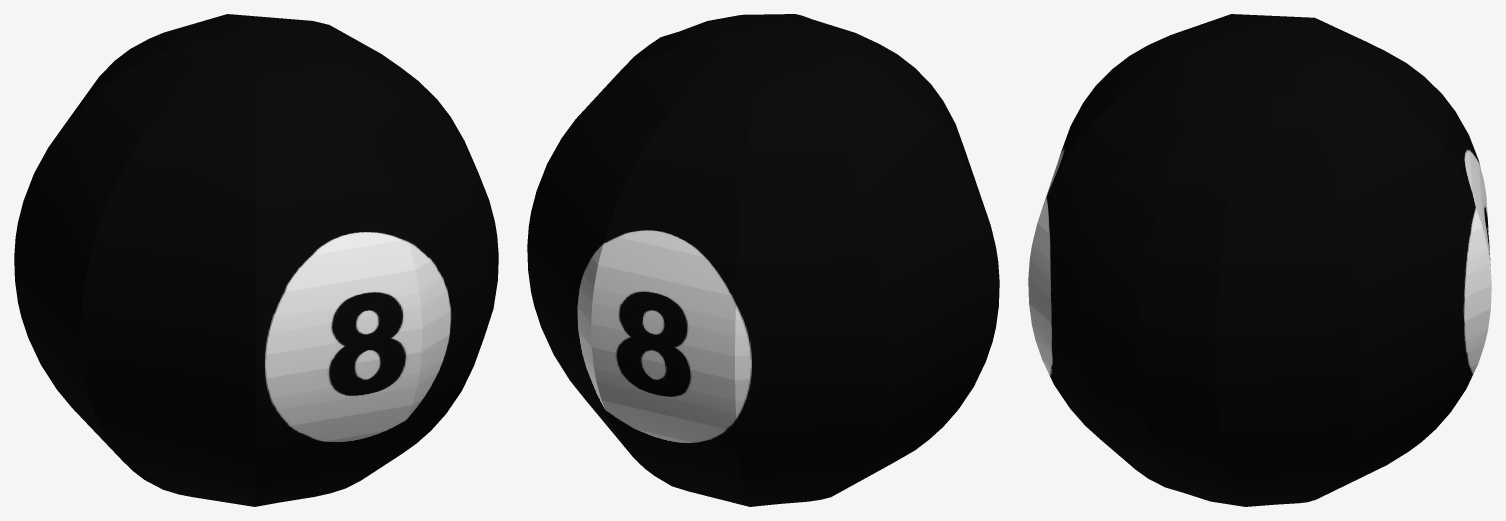
File: 8Ball.fbx
The picture shows the model from 3 angles, left to right: view 1: azimuth 30°, elevation 25°; view 2: azimuth 150°, elevation 25°; view 3: azimuth 270°, elevation 25°; orthographic projection.
Parts seen in each view (by area): view 1: Eight_Ball_eight_ball; view 2: Eight_Ball_eight_ball; view 3: Eight_Ball_eight_ball.
Part boxes in pixels (box(x1,y1,x2,y2)): Eight_Ball_eight_ball: box(14, 14, 498, 506); Eight_Ball_eight_ball: box(527, 14, 999, 506); Eight_Ball_eight_ball: box(1028, 14, 1491, 506).
Size of the model in its own units: 0.3153 by 0.3281 by 0.3081.
